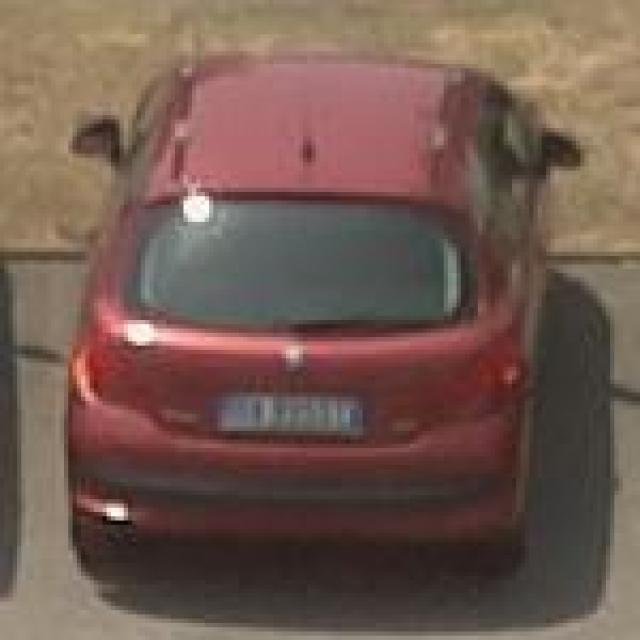cars-sUYr: (35, 4, 600, 596)
